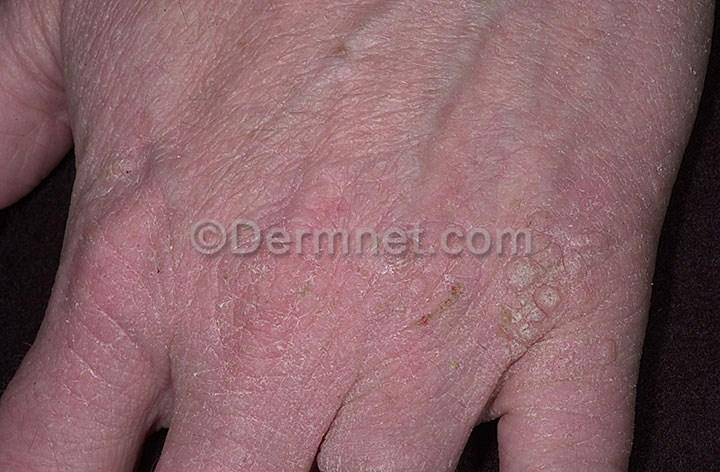Eczema: (232, 252, 398, 394), (109, 206, 236, 338), (284, 172, 422, 272), (384, 261, 498, 371), (14, 347, 132, 453), (170, 364, 285, 469), (77, 112, 202, 206), (476, 231, 570, 338), (580, 182, 647, 326), (351, 367, 445, 467), (54, 237, 131, 358), (535, 327, 633, 417)
